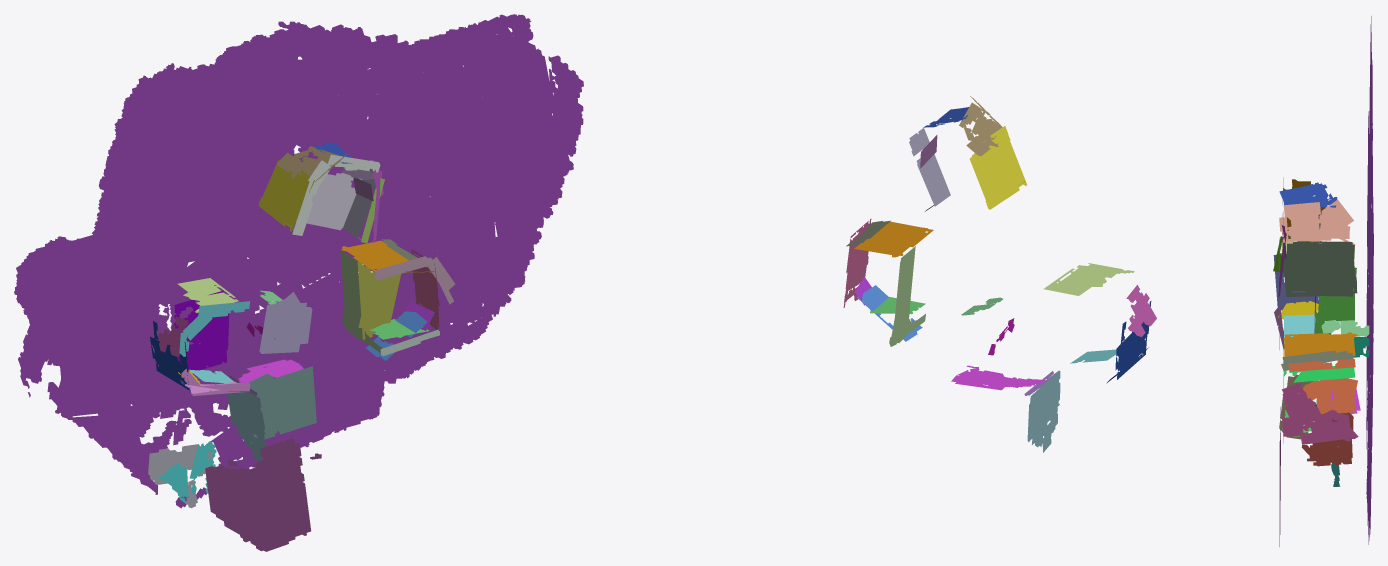
Rendered from scene0423_00_simple.glb.
3 views of the same model, side by side, from view 1: azimuth 30°, elevation 25°; view 2: azimuth 150°, elevation 25°; view 3: azimuth 270°, elevation 25° (orthographic). The views are drawn at different scales.
Size of the model in its own units: 4.85 by 3.91 by 0.7081.
